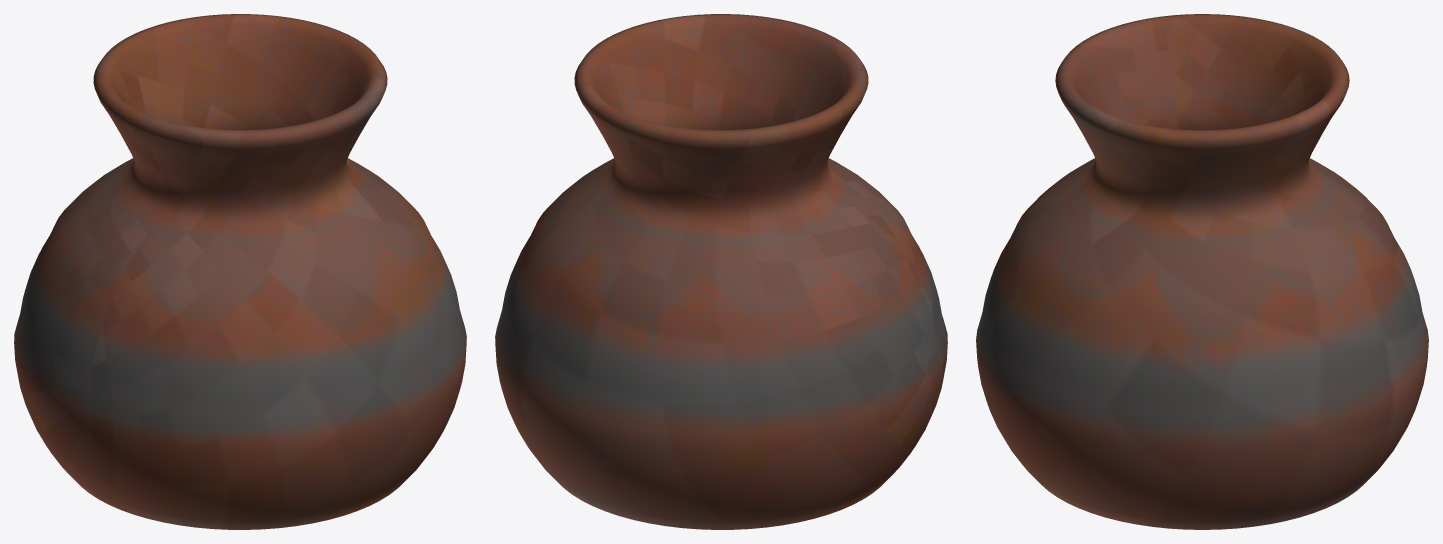
File: pot2.fbx
The picture shows the model from 3 angles, left to right: view 1: azimuth 30°, elevation 25°; view 2: azimuth 150°, elevation 25°; view 3: azimuth 270°, elevation 25°; orthographic projection.
Parts seen in each view (by area): view 1: Sphere; view 2: Sphere; view 3: Sphere.
Part boxes in pixels (bbox=[...]): Sphere: bbox=[14, 14, 466, 529]; Sphere: bbox=[495, 14, 947, 529]; Sphere: bbox=[976, 14, 1428, 529].
Size of the model in its own units: 43.35 by 41.91 by 43.35.
